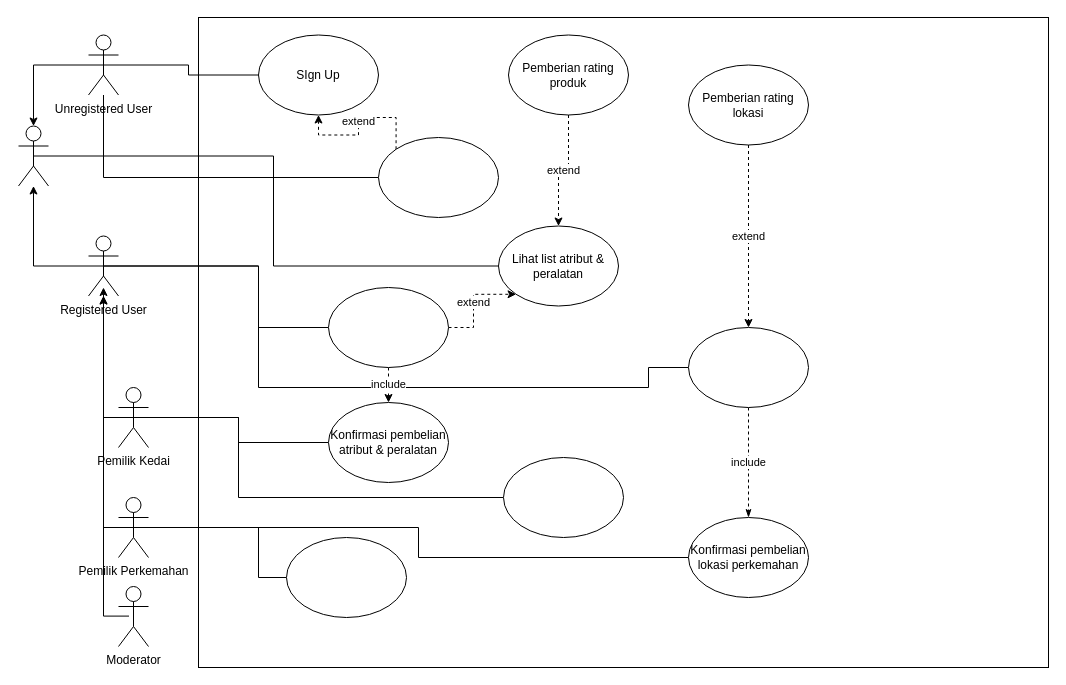
Some shapes in this 1066 by 685 pixel diagram are drawn without their labels. The centre of each missing label's shape, as x and y in pixels:
Booking lokasi perkemahan: (x=748, y=367)
Listing Perkemahan: (x=346, y=577)
Listing Produk: (x=563, y=497)
Log In: (x=438, y=177)
Pembelian atribut & peralatan: (x=388, y=327)
Visitor: (x=33, y=155)
